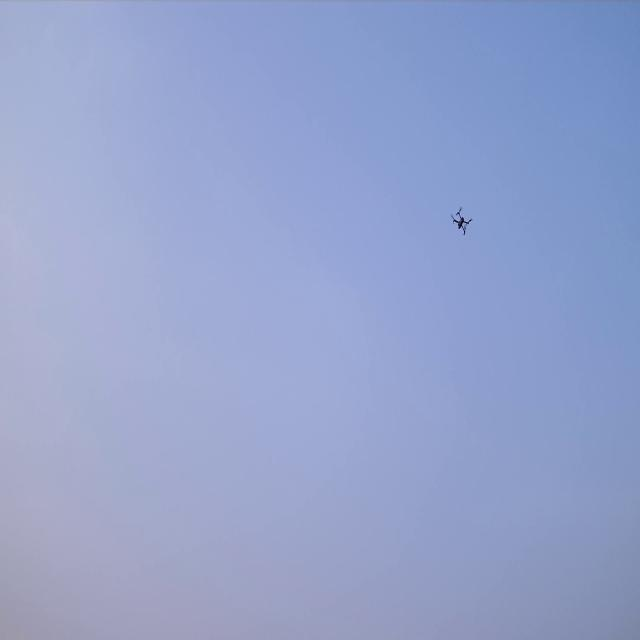UAV: (453, 210, 471, 234)
